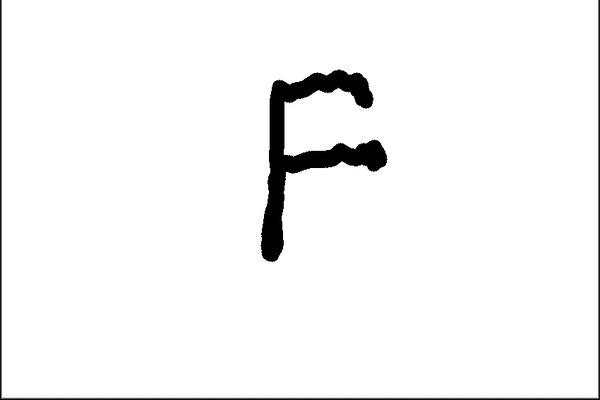F: (256, 66, 389, 263)
